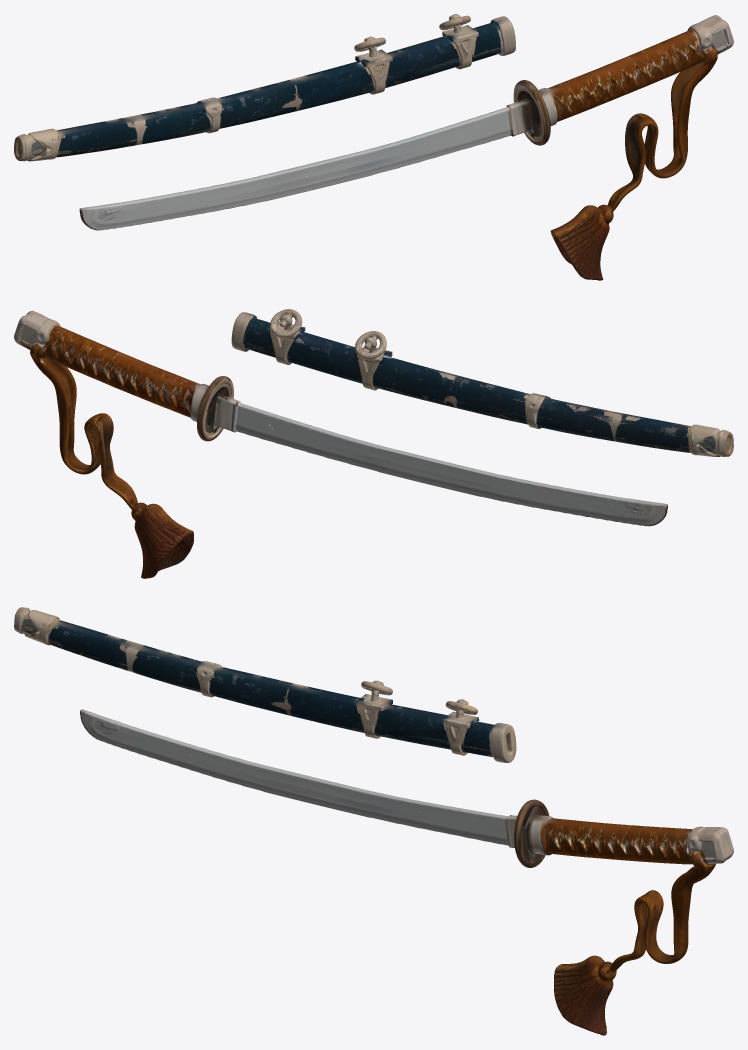
The model's file is 日军太刀.glb.
3 views of the same model, one above another, from view 1: azimuth 30°, elevation 25°; view 2: azimuth 150°, elevation 25°; view 3: azimuth 330°, elevation 25° (orthographic).
Visible parts, largest first — view 1: texture_pbr_v128; view 2: texture_pbr_v128; view 3: texture_pbr_v128.
Part boxes in pixels (x1,y1,x2,y2): texture_pbr_v128: (14, 14, 733, 280); texture_pbr_v128: (14, 309, 733, 578); texture_pbr_v128: (14, 607, 733, 1035).
Bounding box in the file's own units: 1.13 × 0.4569 × 0.0879.
Materials: 1 (1 with a texture image).
